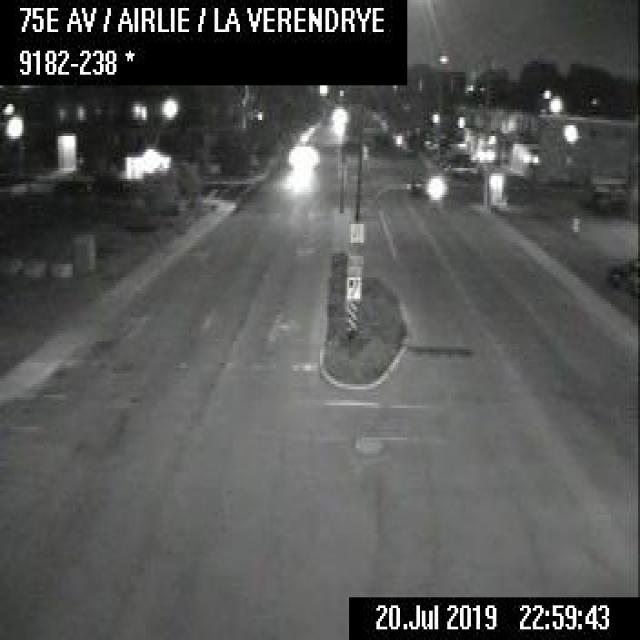vehicle: (446, 158, 478, 180)
